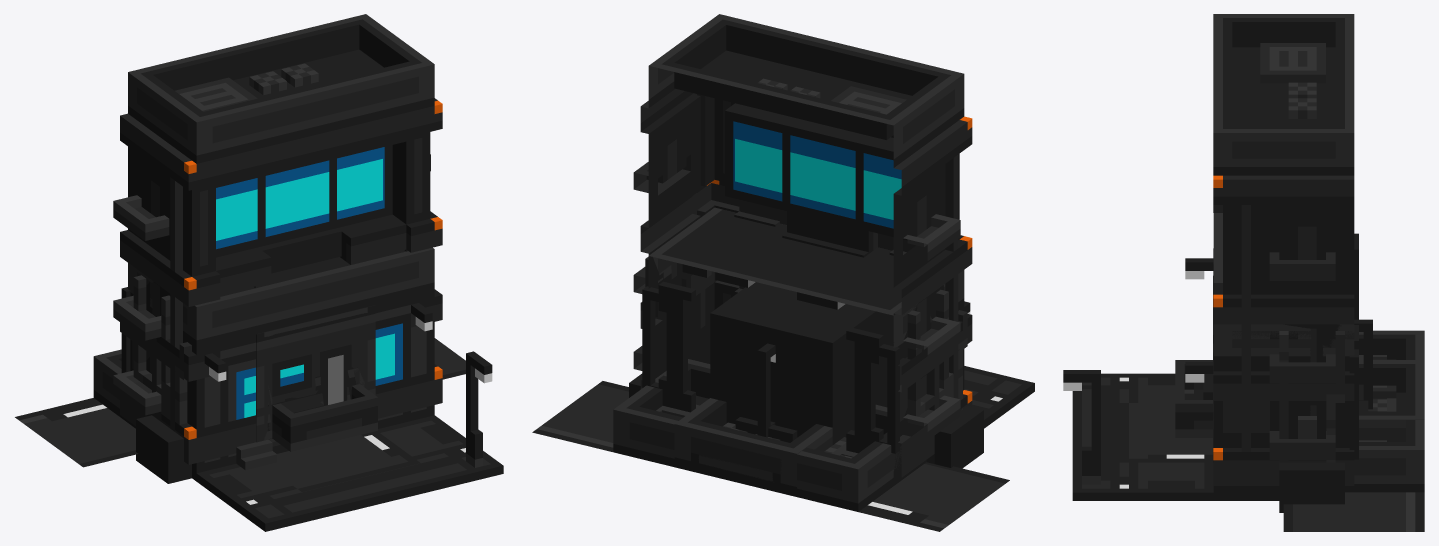
Rendered from EnvironmentProps_ModelPack_01.fbx.
The picture shows the model from 3 angles, left to right: view 1: azimuth 30°, elevation 25°; view 2: azimuth 150°, elevation 25°; view 3: azimuth 270°, elevation 25°; orthographic projection. The views are drawn at different scales.
Visible parts, largest first — view 1: env_sta_ChandyBuilding_01, env_sta_Shop_02, env_sta_ElvEntrance, env_sta_Building_p05, env_sta_Shop_01, env_sta_floor_basicSideLights, env_sta_floor_basicCentreLights, env_sta_Building_T02, env_sta_floor_basicCentre; view 2: env_sta_ChandyBuilding_01, env_sta_ElvEntrance, env_sta_Building_T02, env_Prop_Reflector, env_sta_Building_p04, env_sta_Building_T01, env_sta_floor_basicCentreLights, env_sta_Building_p03, env_sta_Building_p01, env_sta_Shop_01, env_sta_Building_p05, env_sta_floor_basicCentre (+7 smaller); view 3: env_sta_ChandyBuilding_01, env_sta_Shop_01, env_sta_ElvEntrance, env_sta_Shop_02, env_sta_Building_T02, env_sta_floor_basicCentre, env_sta_floor_basicSideLights, env_sta_Building_T01, env_sta_Building_p05, env_Prop_Reflector, env_sta_prop_streetLmp_01.
Part boxes in pixels (x1,y1,x2,y2): env_sta_ChandyBuilding_01: [113, 14, 442, 464]; env_sta_Shop_02: [136, 247, 434, 475]; env_sta_ElvEntrance: [128, 263, 503, 531]; env_sta_Building_p05: [256, 305, 377, 453]; env_sta_Shop_01: [133, 251, 492, 480]; env_sta_floor_basicSideLights: [265, 431, 420, 491]; env_sta_floor_basicCentreLights: [15, 398, 137, 467]; env_sta_Building_T02: [93, 349, 127, 422]; env_sta_floor_basicCentre: [434, 338, 465, 379]; env_sta_ChandyBuilding_01: [633, 14, 972, 477]; env_sta_ElvEntrance: [629, 208, 1034, 485]; env_sta_Building_T02: [613, 359, 901, 511]; env_Prop_Reflector: [642, 281, 899, 457]; env_sta_Building_p04: [715, 298, 832, 437]; env_sta_Building_T01: [674, 398, 832, 496]; env_sta_floor_basicCentreLights: [858, 462, 1009, 531]; env_sta_Building_p03: [710, 313, 832, 412]; env_sta_Building_p01: [710, 282, 875, 423]; env_sta_Shop_01: [645, 207, 948, 416]; env_sta_Building_p05: [832, 311, 893, 444]; env_sta_floor_basicCentre: [532, 381, 628, 451]; env_sta_ChandyBuilding_01: [1213, 14, 1354, 485]; env_sta_Shop_01: [1063, 213, 1354, 504]; env_sta_ElvEntrance: [1072, 258, 1344, 512]; env_sta_Shop_02: [1213, 213, 1354, 492]; env_sta_Building_T02: [1354, 330, 1424, 492]; env_sta_floor_basicCentre: [1283, 492, 1424, 531]; env_sta_floor_basicSideLights: [1119, 403, 1212, 462]; env_sta_Building_T01: [1359, 360, 1424, 441]; env_sta_Building_p05: [1175, 360, 1212, 437]; env_Prop_Reflector: [1349, 233, 1386, 459]; env_sta_prop_streetLmp_01: [1354, 319, 1372, 409].
Size of the model in its own units: 400 by 371 by 308.
Materials: 1 (1 with a texture image).
